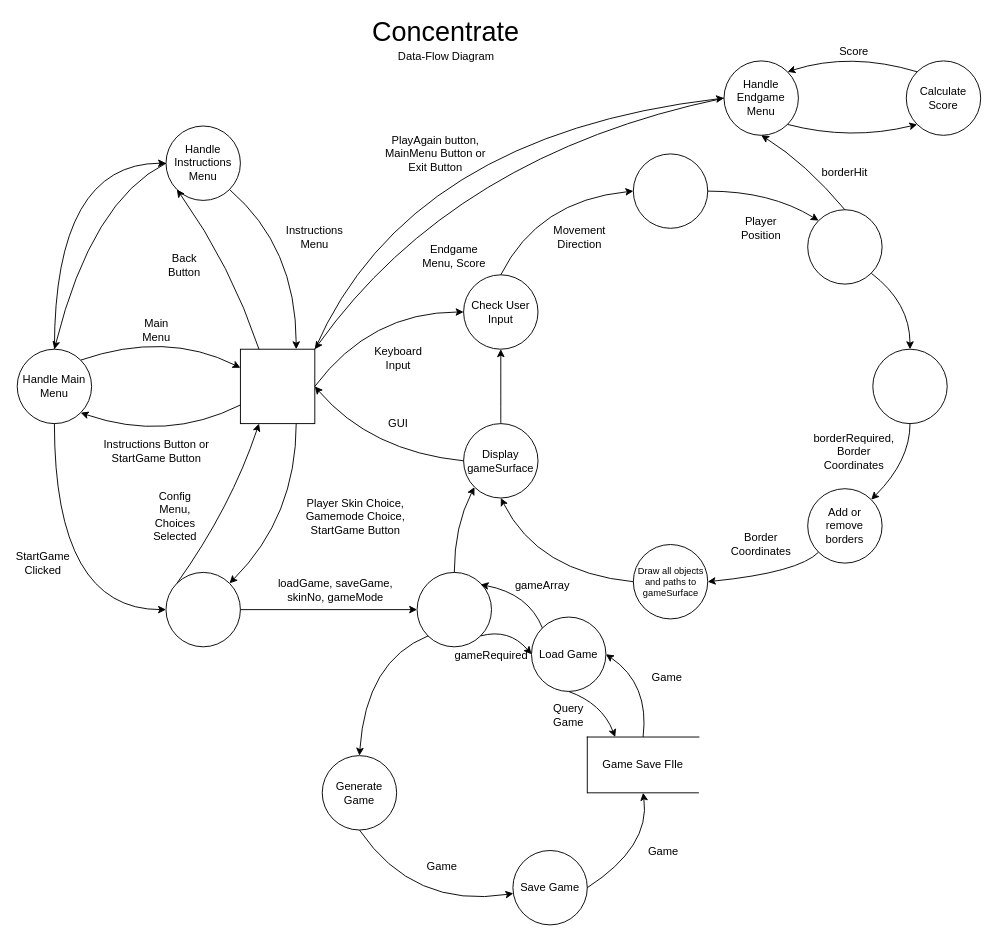
Image size: 997x941. Some labels were removed from this diagram. Here are the shapes that lost their labels. From the top down, the centre of each, then its label:
At [670,190]: "Update Player Position".
At [844,246]: "Check for Border Collision".
At [277,386]: "User".
At [909,386]: "Update Border Positions".
At [202,609]: "Handle Configuration Menu".
At [454,609]: "Begin Game".
